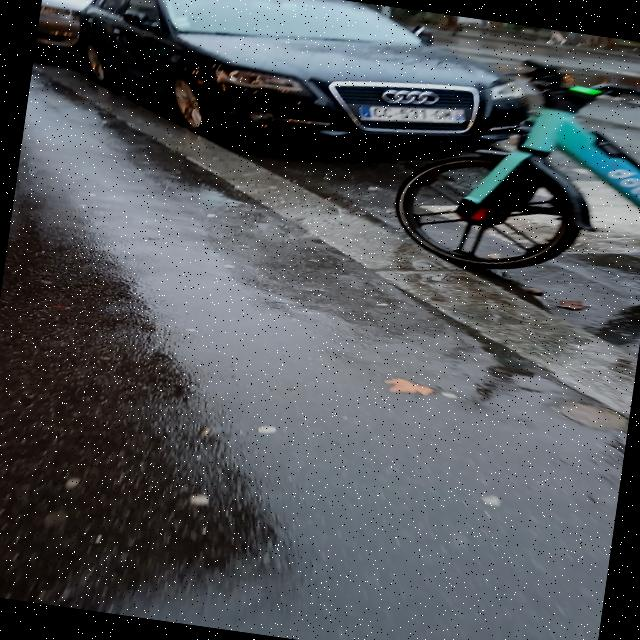Autre: (360, 104, 476, 128)
